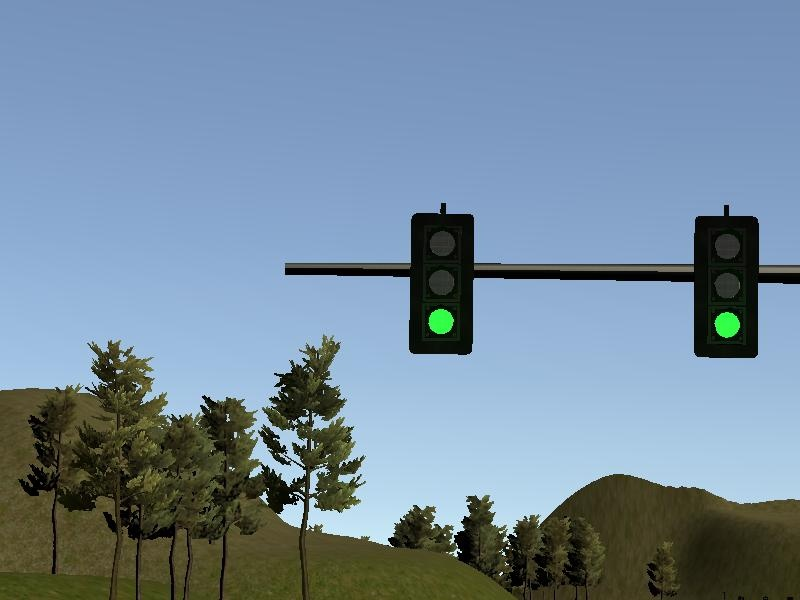GREEN: (408, 214, 474, 354), (693, 216, 759, 356)
